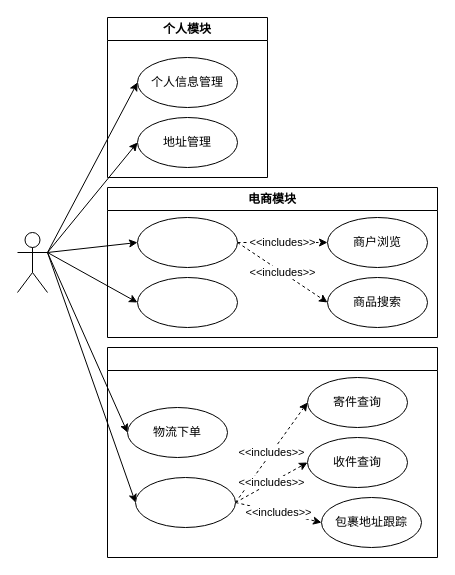
Image size: 455x575. Some labels were removed from this diagram. The shapes that lost their labels are listed below. From the top down, each one's box as (x1, y1, x2, y2) in pixels, then its label:
(16, 232, 48, 292): 个人
(136, 216, 238, 268): 商品浏览
(136, 276, 238, 328): 电商下单
(106, 346, 438, 558): 物流单模块
(134, 476, 236, 528): 查询物流单
